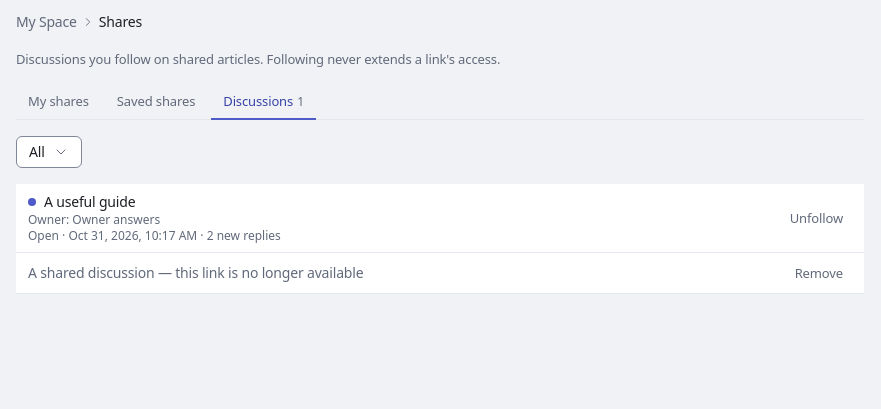
Test: Unfollow uses the link; Remove uses the caller's own follow; a failure keeps the row
Click the button with aria-label "Unfollow: A useful guide" at (816, 218), box [781,206,852,230]
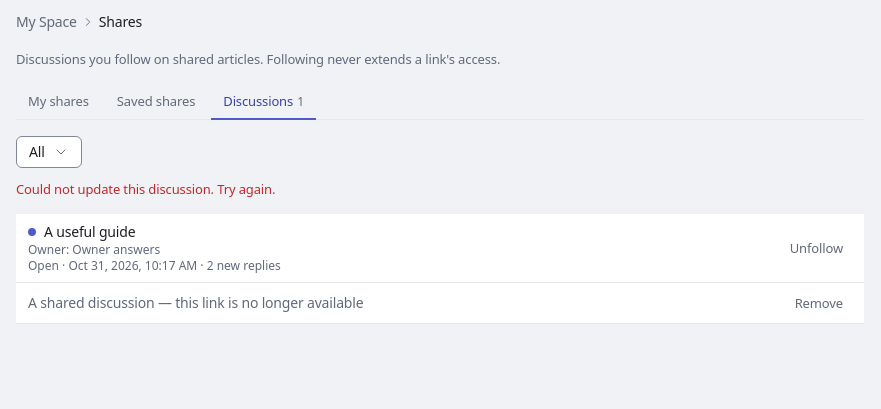
Check: the text "A useful guide" is shown, box [44,222,135,242]
Check: the text "Could not update this discussion. Try again." is shown, box [16,180,275,198]
Click the button with aria-label "Unfollow: A useful guide" at (816, 248), box [781,236,852,260]
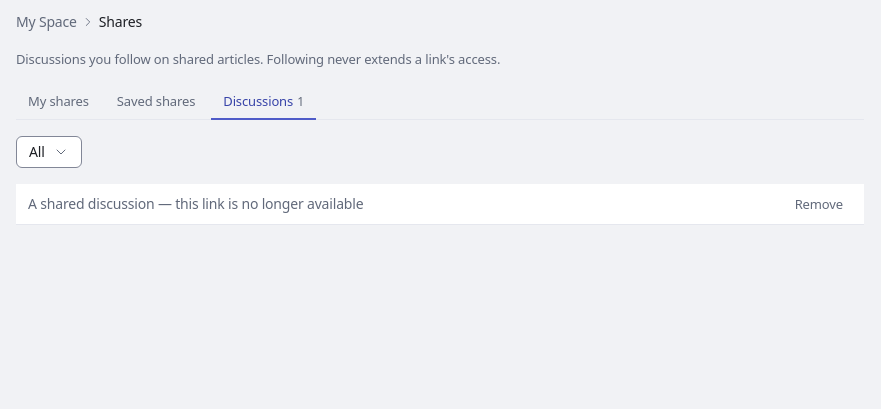
Check: the text "A useful guide" is gone
Click the button with aria-label "Remove discussion" at (819, 204), box [786,192,852,216]
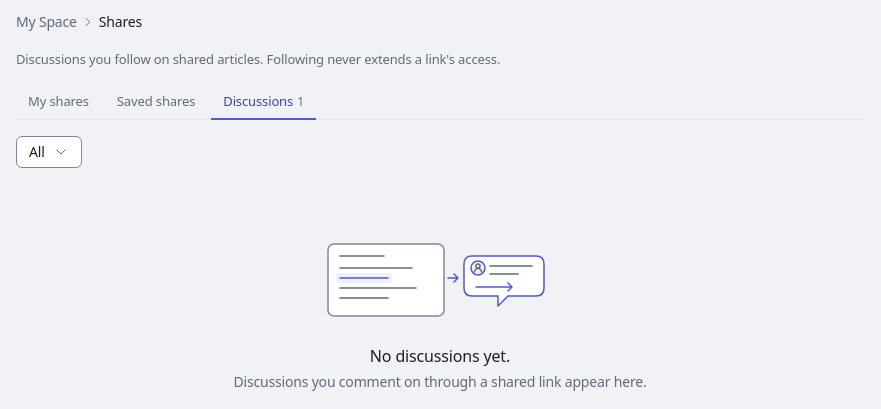
Check: the text "Discussions you comment on through a shared link appear here." is shown, box [233,372,646,392]
